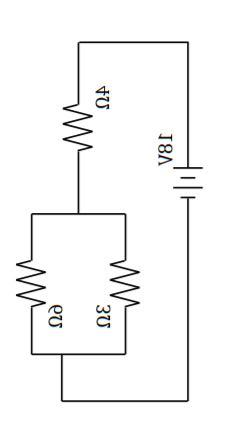resistor: (100, 247, 147, 320), (9, 245, 48, 319), (54, 99, 92, 160)
